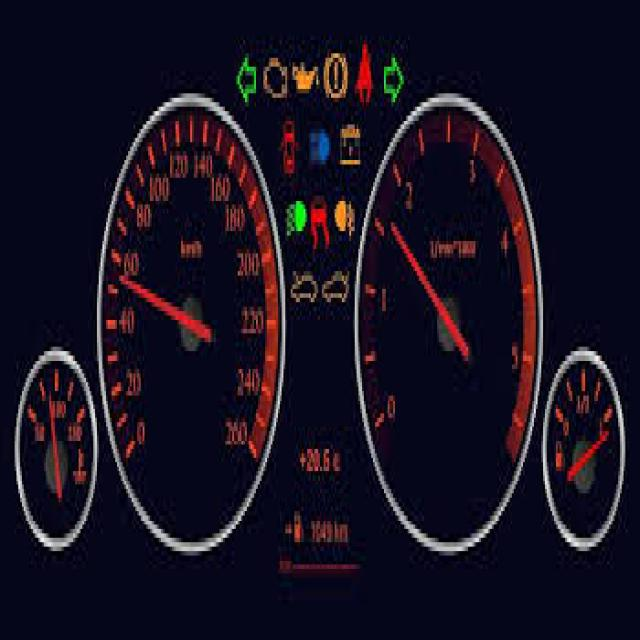kontrolka: (257, 53, 289, 105), (308, 188, 332, 257), (339, 117, 368, 173), (291, 57, 322, 105), (333, 191, 358, 248), (324, 50, 350, 103), (284, 192, 308, 242), (308, 123, 330, 168)
